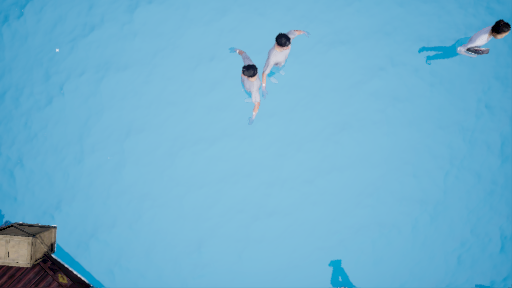person: (414, 21, 508, 72), (254, 27, 312, 93), (226, 45, 267, 126)
